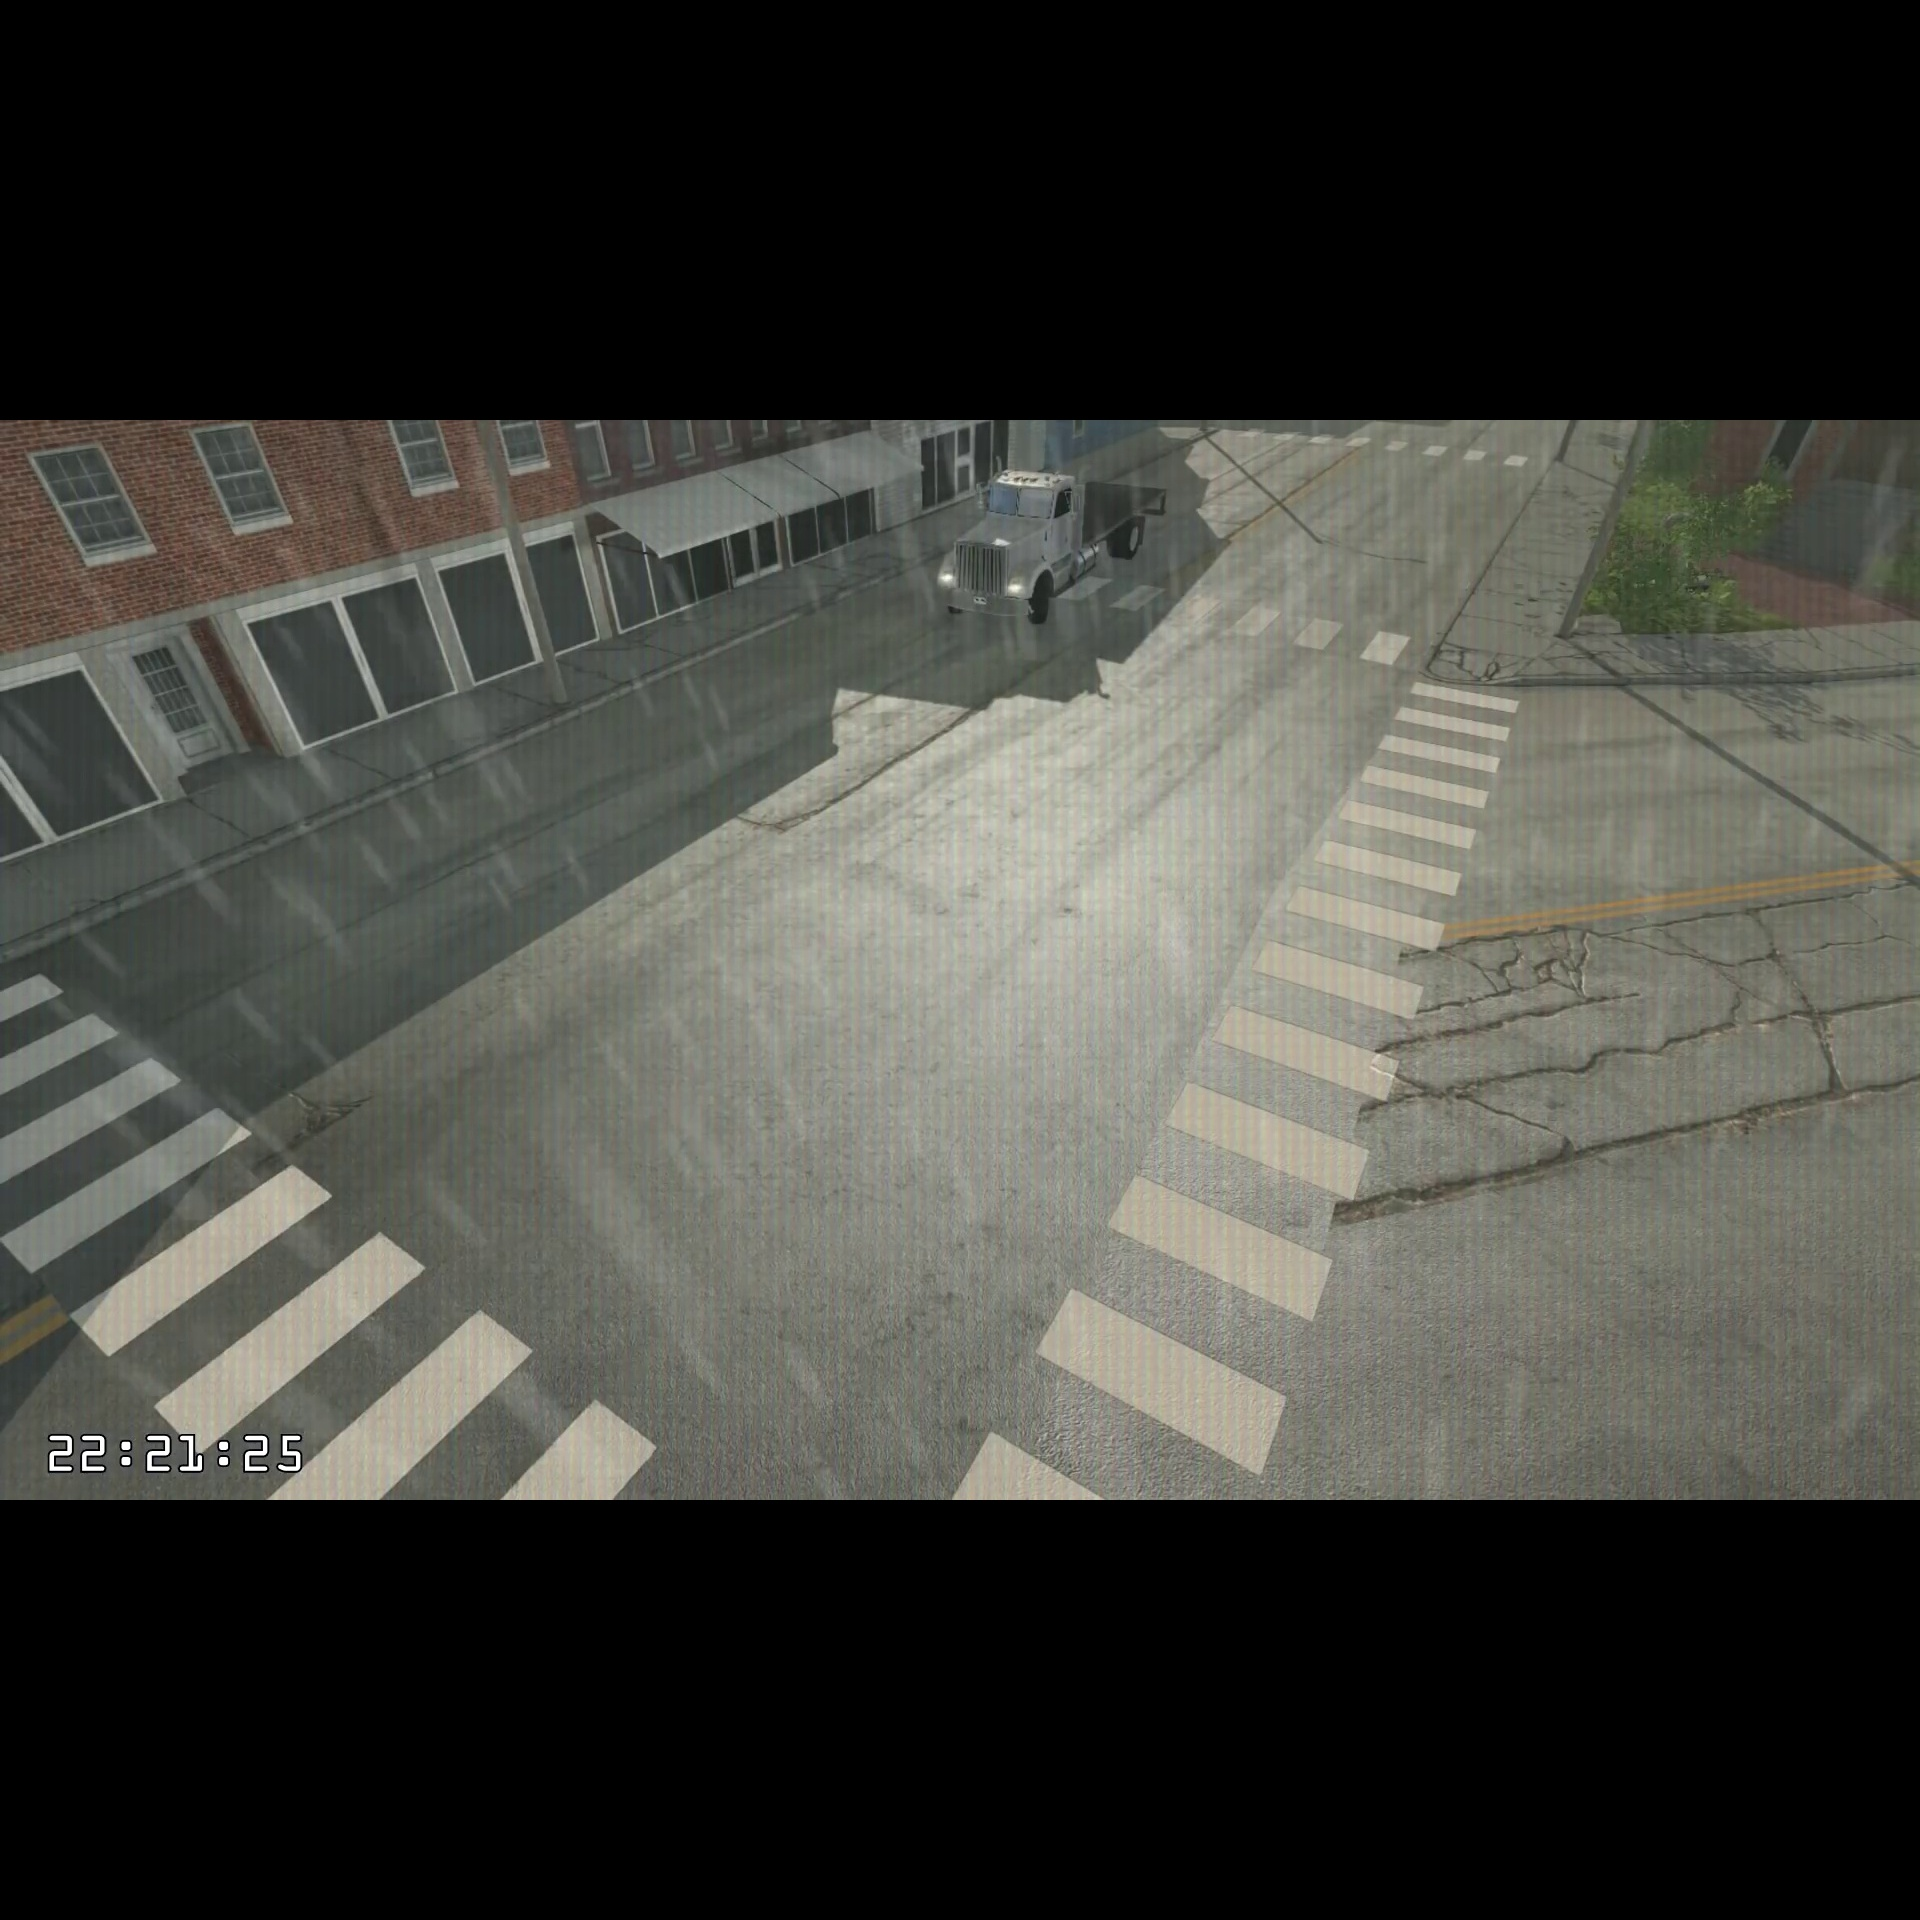vehicle: (928, 462, 1176, 633)
